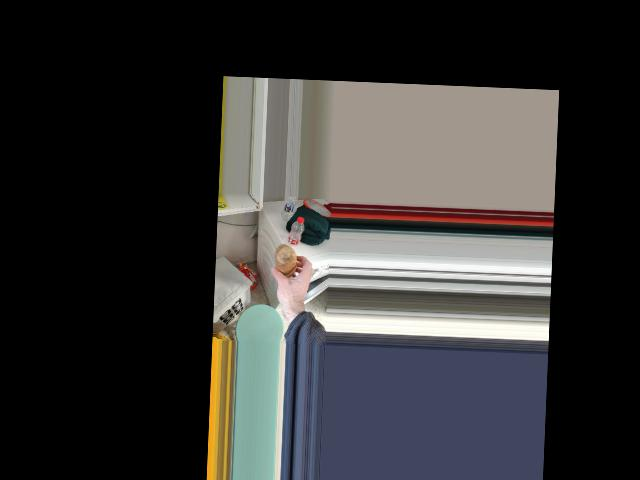sweet_potato: (270, 241, 299, 280)
